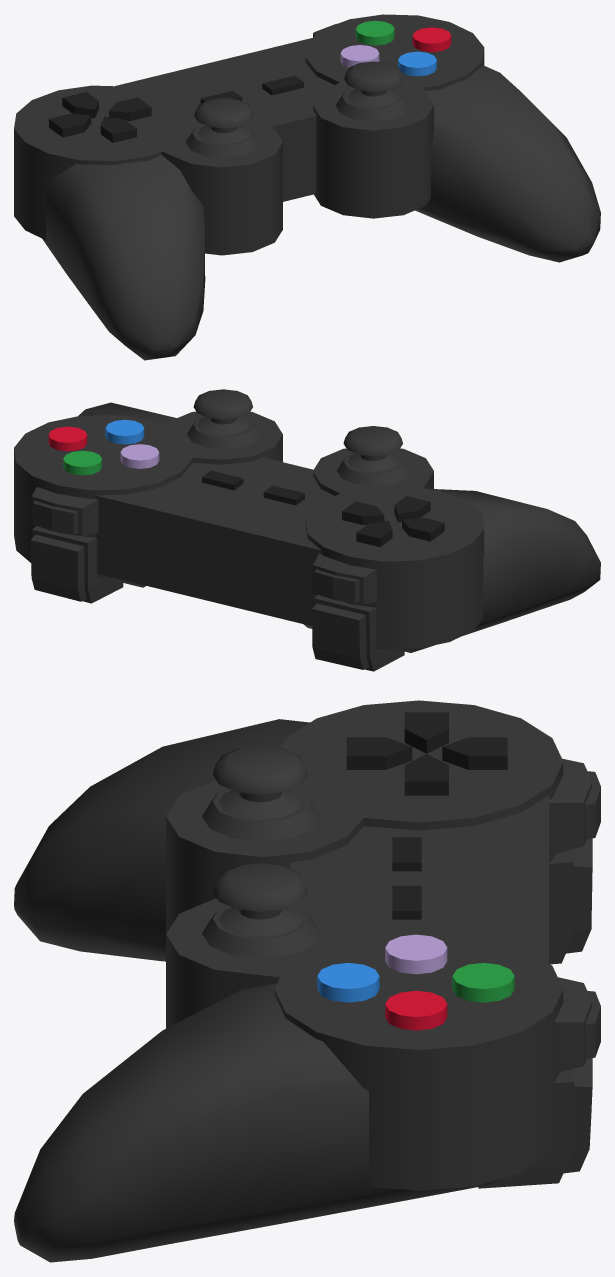
Rendered from Console_PolyStation_Controller.fbx.
3 views of the same model, one above another, from view 1: azimuth 30°, elevation 25°; view 2: azimuth 150°, elevation 25°; view 3: azimuth 270°, elevation 25° (orthographic). The views are drawn at different scales.
Parts seen in each view (by area): view 1: Console PolyStation Controller; view 2: Console PolyStation Controller; view 3: Console PolyStation Controller.
Boxes of the visible parts, box(x1,y1,x2,y2) form: Console PolyStation Controller: box(14, 14, 600, 360); Console PolyStation Controller: box(14, 389, 600, 671); Console PolyStation Controller: box(14, 700, 600, 1262).
Bounding box in the file's own units: 26.03 × 8.75 × 17.1.
